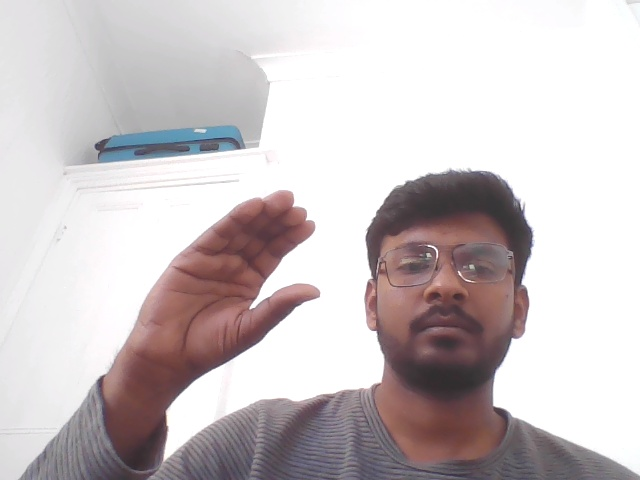No: (83, 170, 339, 444)
